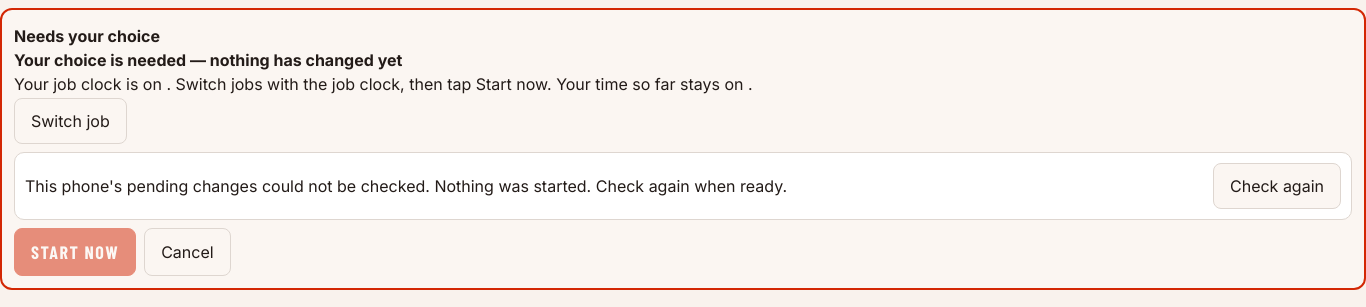
Test case: Ask timing readiness › lets the worker recheck an unreadable phone queue
Check: the button "Start now" is disabled, box [14, 228, 136, 276]
Click the button "Check again".
click(1277, 186)  # box [1213, 163, 1341, 209]
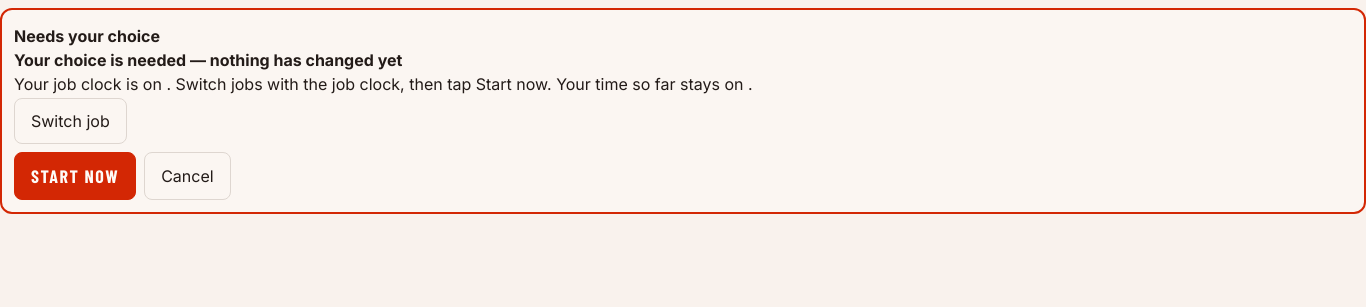
Check: the button "Start now" is enabled, box [14, 152, 136, 200]
